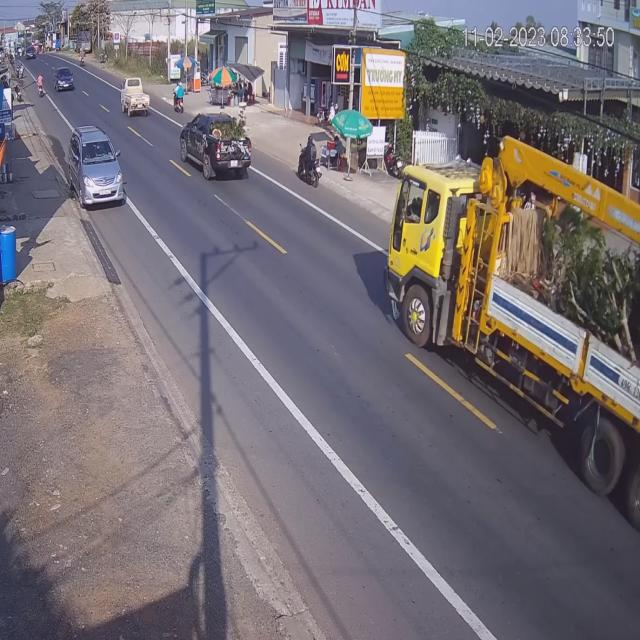car: (180, 108, 250, 182), (68, 127, 125, 211), (56, 65, 76, 92)
motorbike: (297, 134, 321, 190), (173, 86, 185, 114), (37, 74, 44, 99)
truck: (388, 121, 640, 543), (122, 76, 150, 118)
